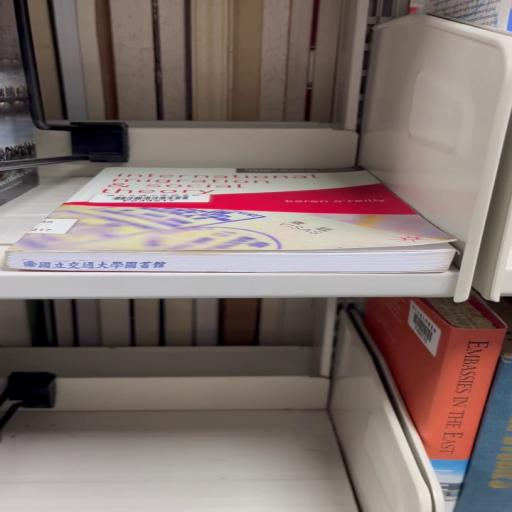flat: (5, 169, 457, 274)
